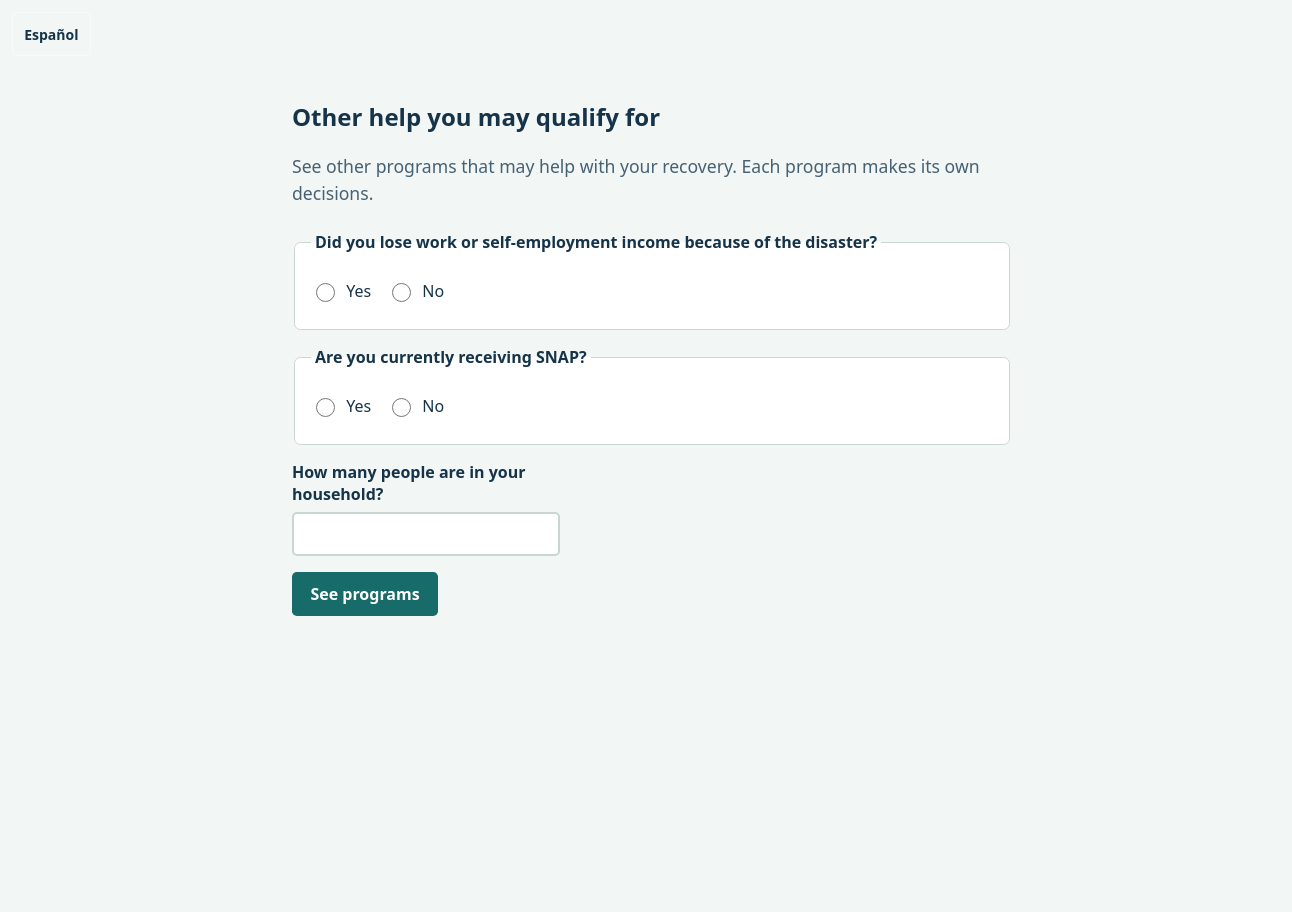
Test: program cards › sorts all tiers by urgency and submits the S07 answers
Click the 1st radio button labelled "Yes": click(326, 293) [316,283,335,302]
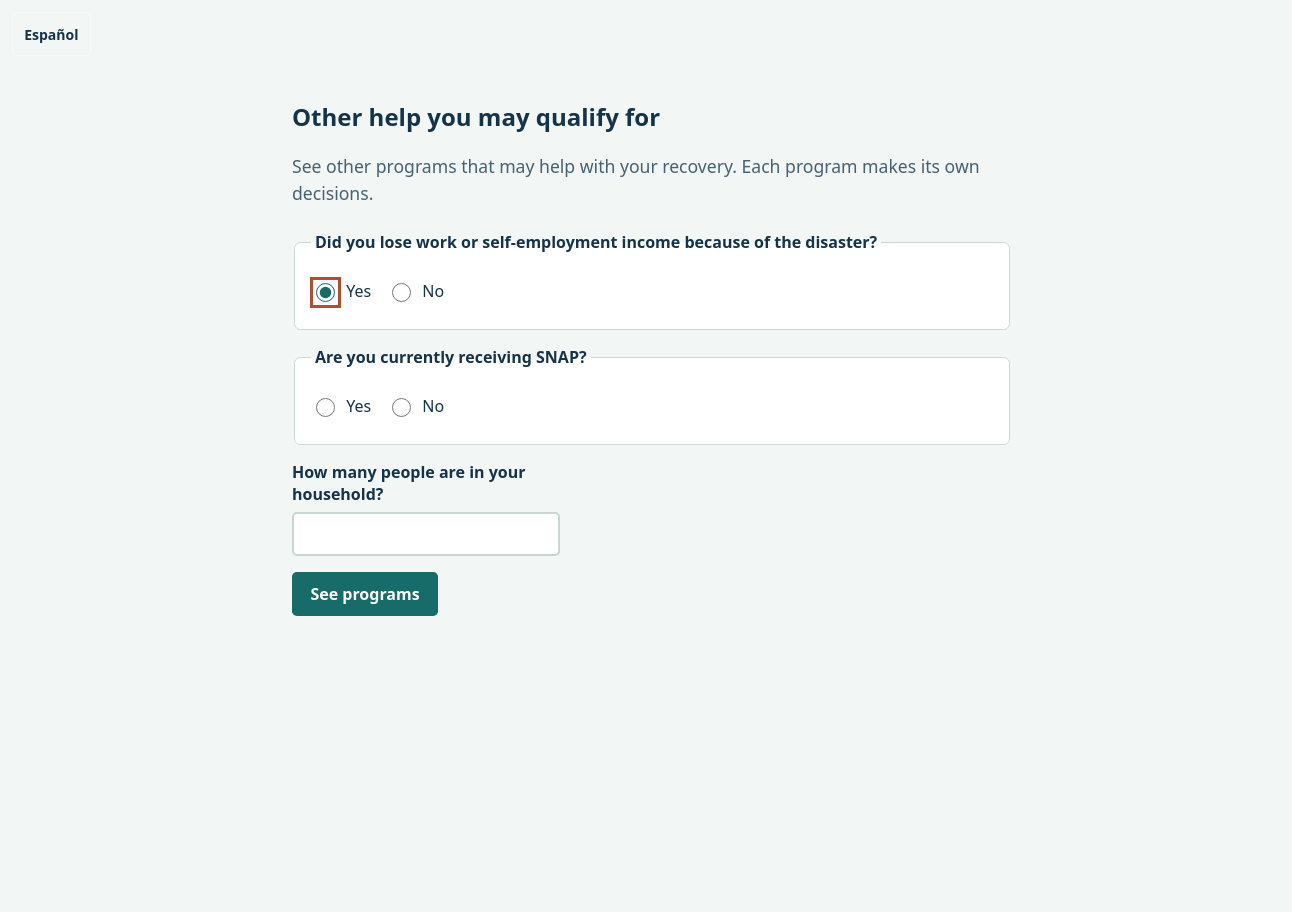
Click the radio button labelled "No" below "Are you currently receiving SNAP?": click(402, 408) [392,398,411,418]
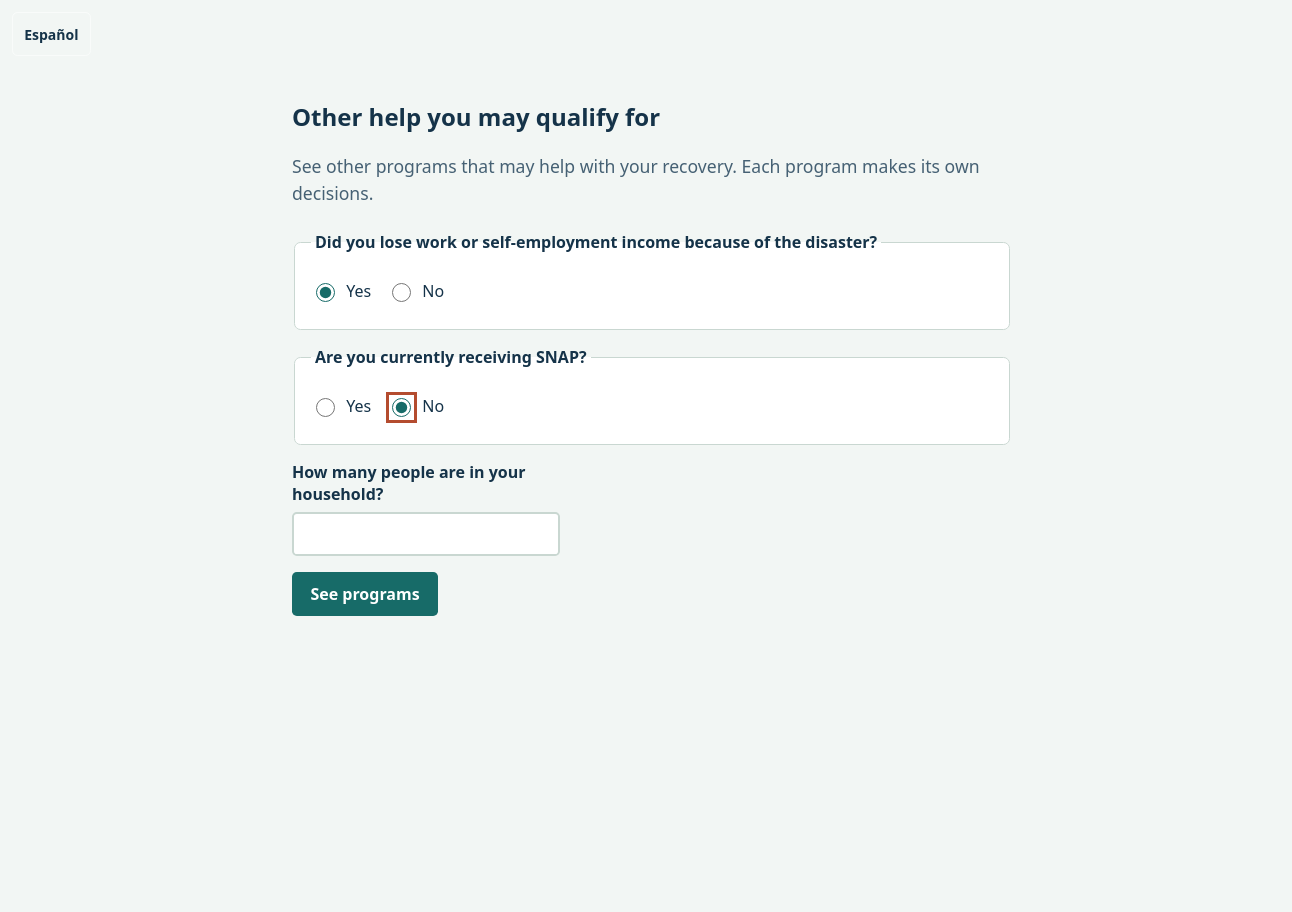
In the number field labelled "How many people are in your household?": (426, 534) [292,512,560,556], type "1"
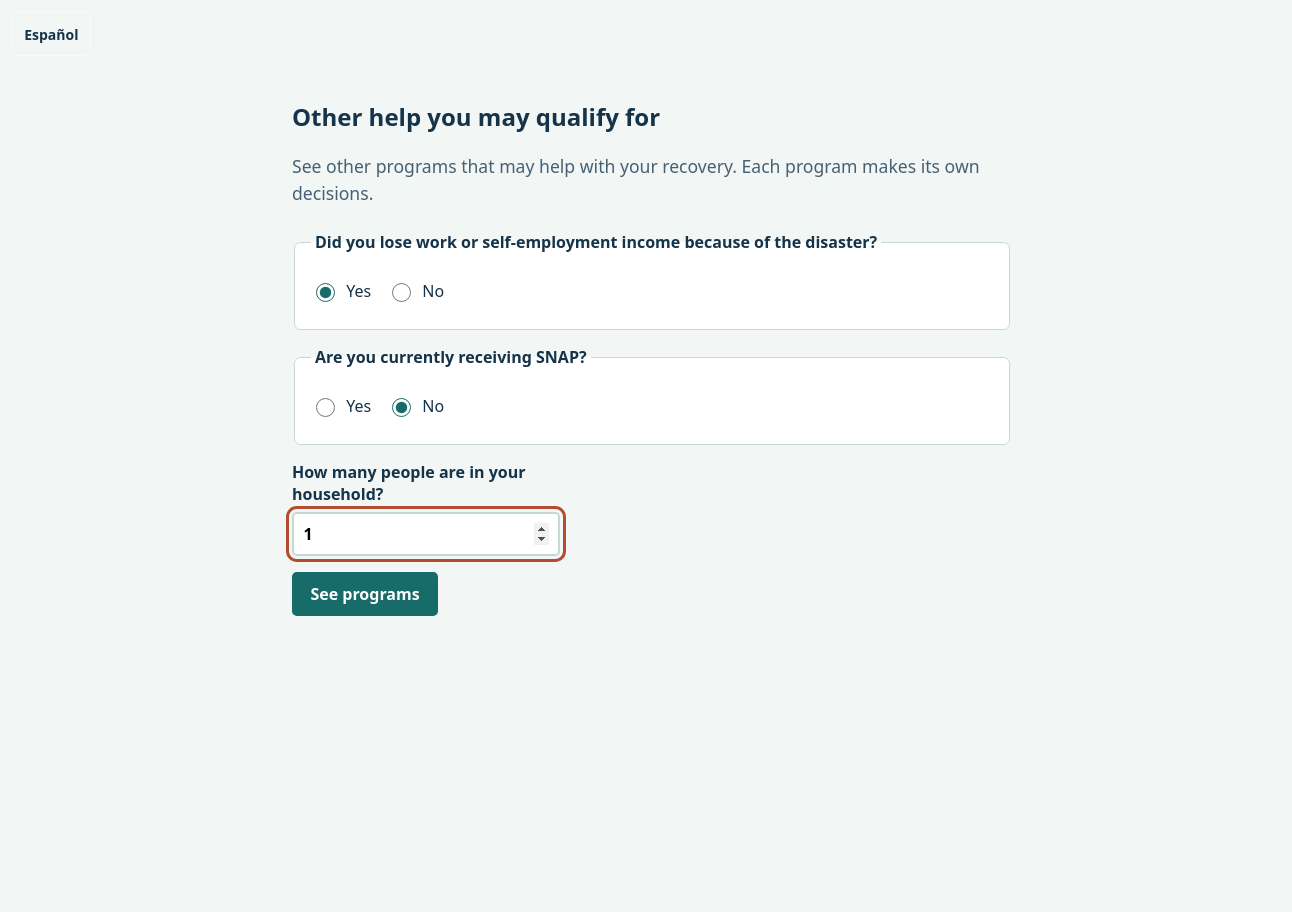
Click the button "See programs": click(365, 594) [292,572,438,616]
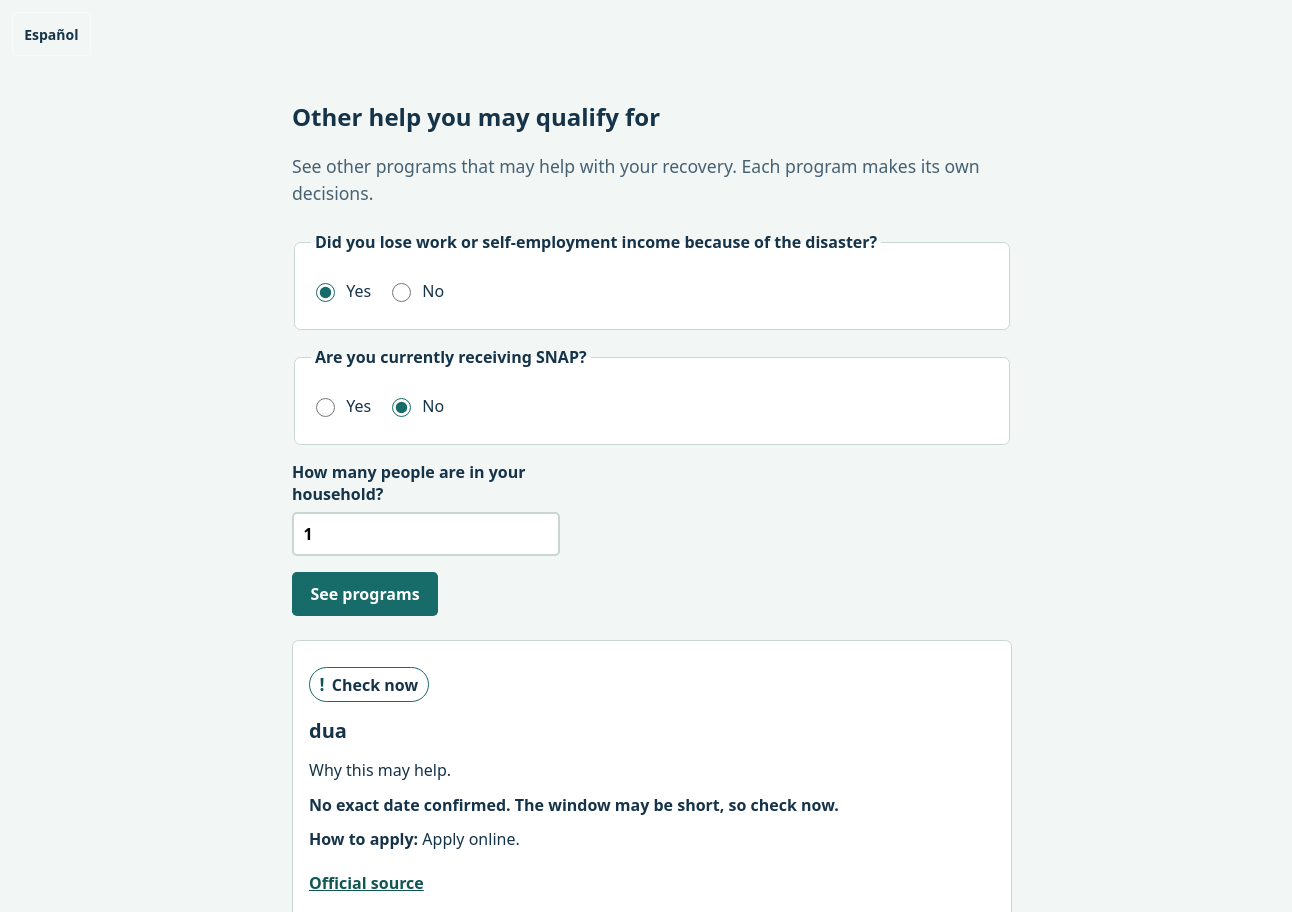
Result: the element that starts with "Check now" is shown at [332,674,418,696]
Result: the element that starts with "Check now" shows "No exact date confirmed. The window may be short, so check now." at [309,794,839,816]
